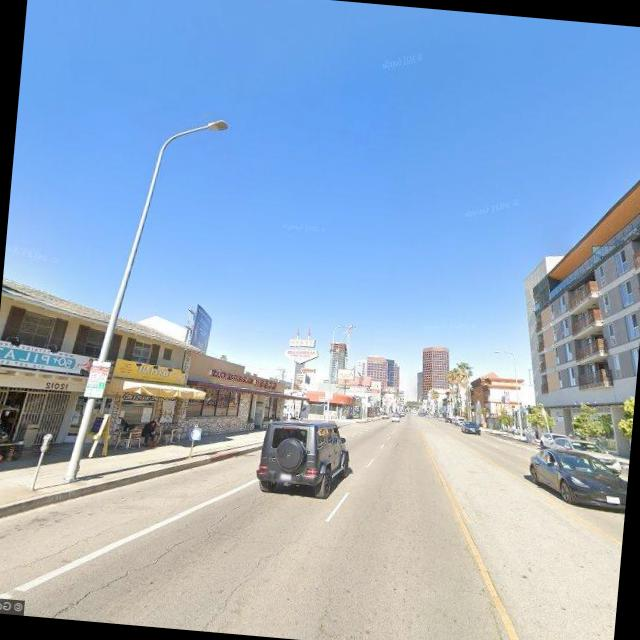pothole: (33, 518, 197, 628), (192, 540, 288, 636), (208, 479, 272, 537)
